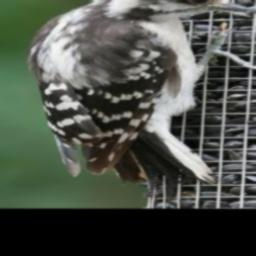Woodpecker: (27, 0, 256, 191)
